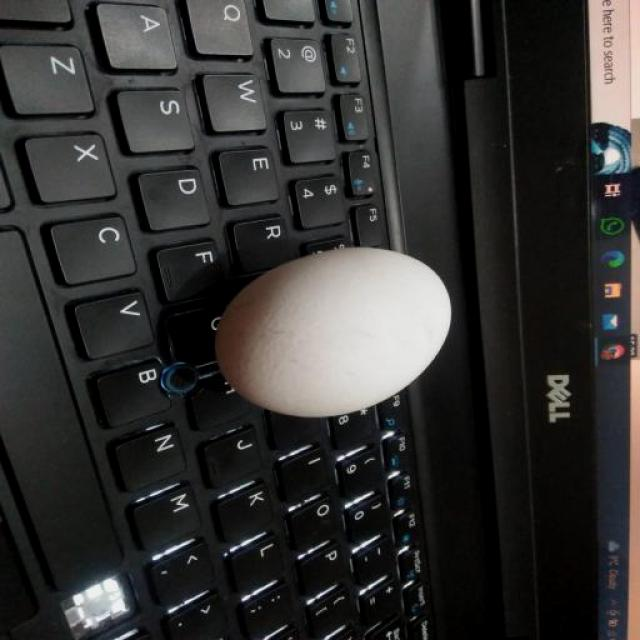telur: (213, 245, 451, 420)
